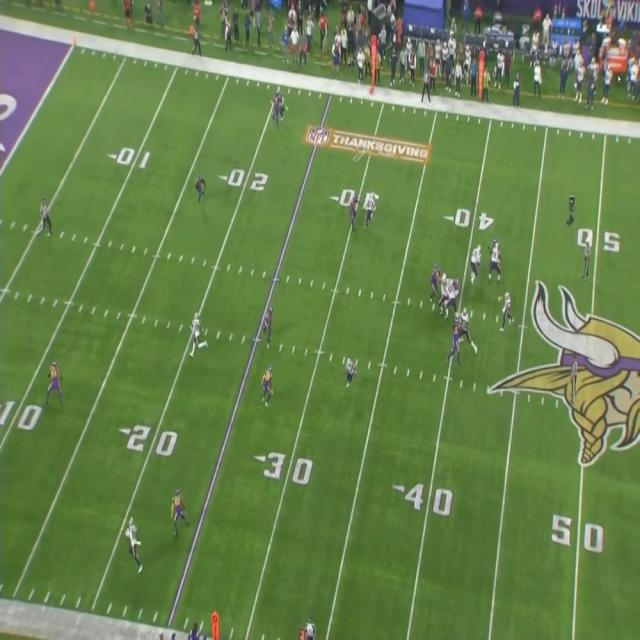db: (174, 488, 187, 535), (50, 361, 64, 402), (262, 363, 274, 405), (270, 93, 280, 127), (196, 172, 205, 203)
lb: (352, 194, 360, 230), (265, 303, 272, 341)
qb: (501, 290, 511, 330)
skill: (127, 519, 140, 569), (193, 311, 204, 354), (365, 188, 374, 229), (347, 358, 358, 389), (276, 88, 284, 120)
